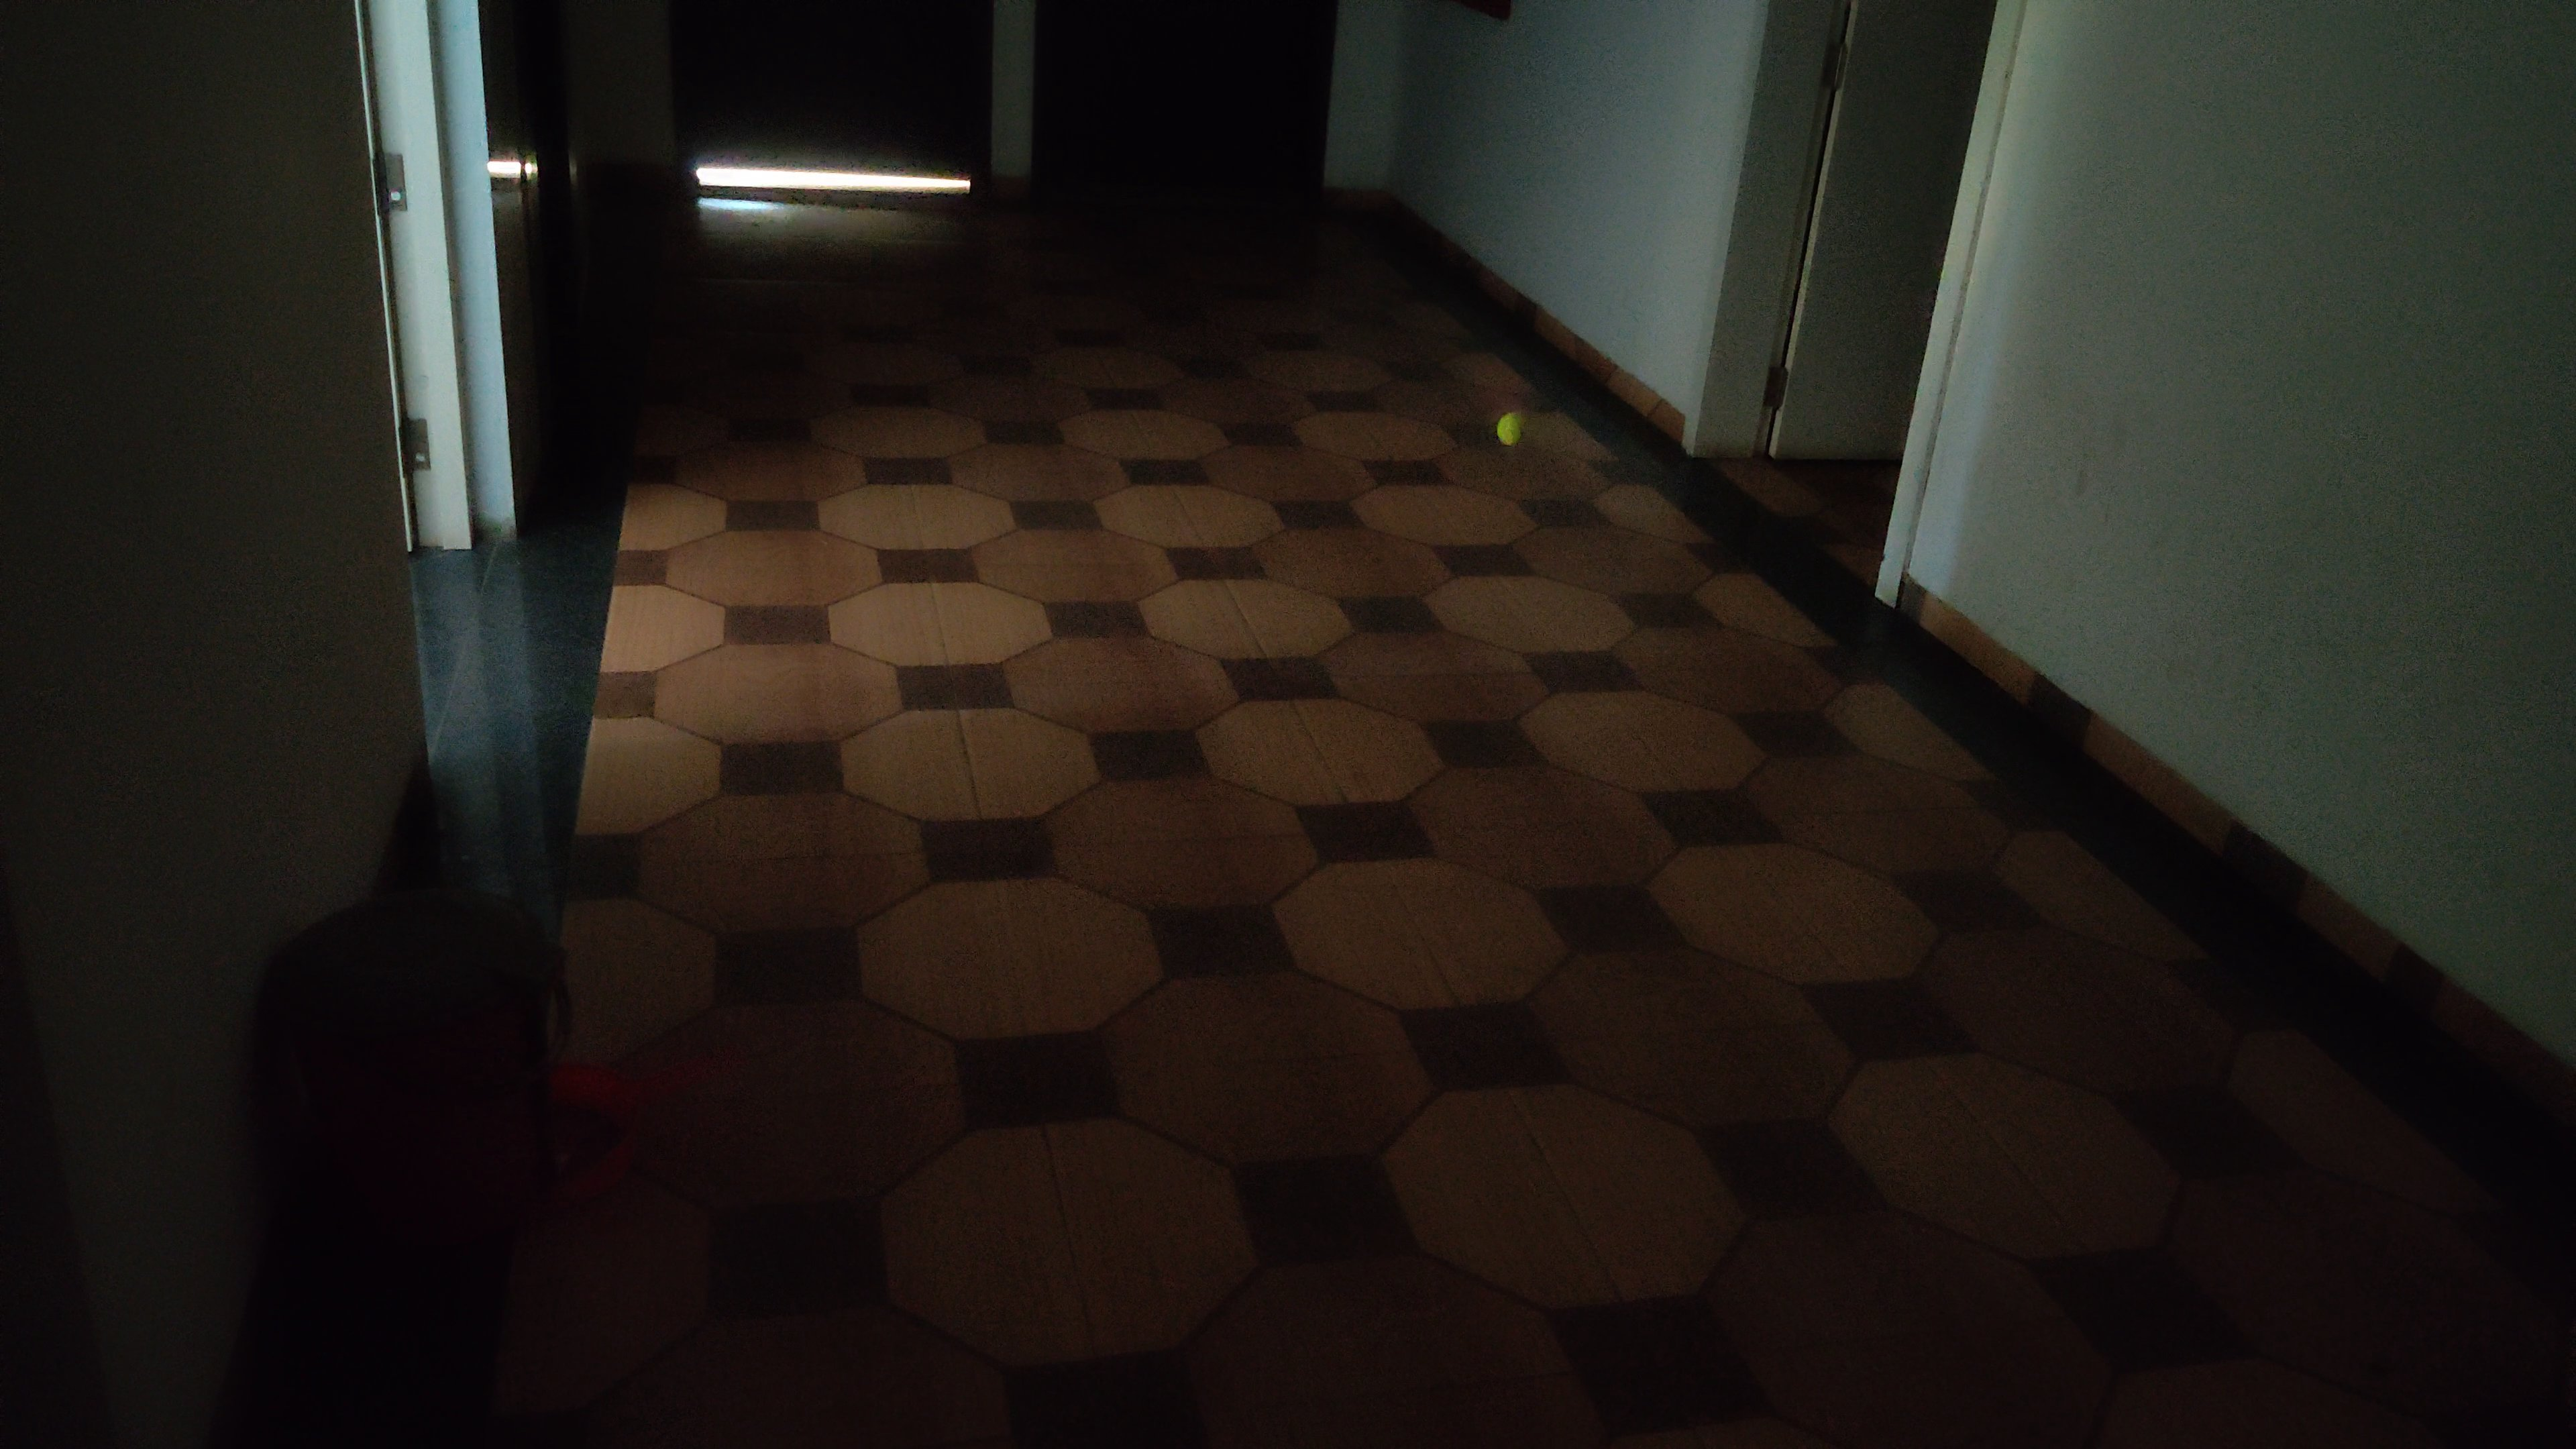Tennis-Ball: (1497, 412, 1529, 448)
